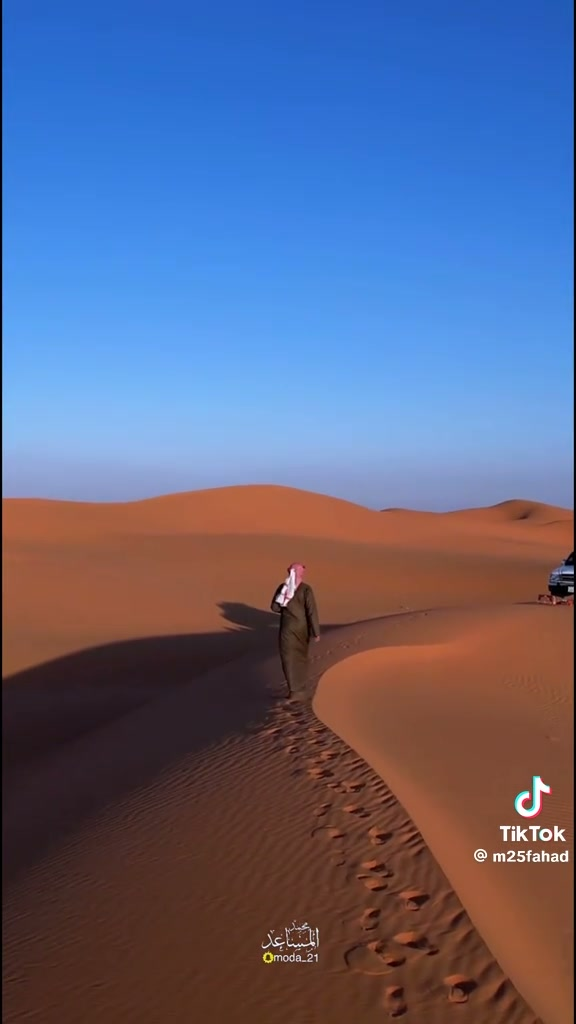human_footprint: (271, 563, 319, 698), (344, 940, 404, 975), (393, 932, 438, 955), (444, 974, 476, 1003), (383, 985, 406, 1017), (399, 888, 428, 911), (360, 858, 392, 877), (356, 874, 386, 891), (312, 825, 345, 839), (360, 908, 380, 930), (368, 826, 391, 845), (342, 803, 369, 817), (307, 766, 332, 780), (341, 779, 364, 792), (316, 803, 331, 816)
